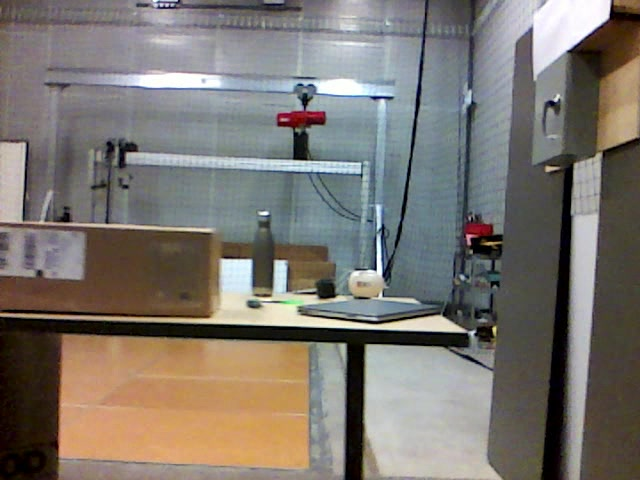box: (1, 222, 223, 319)
